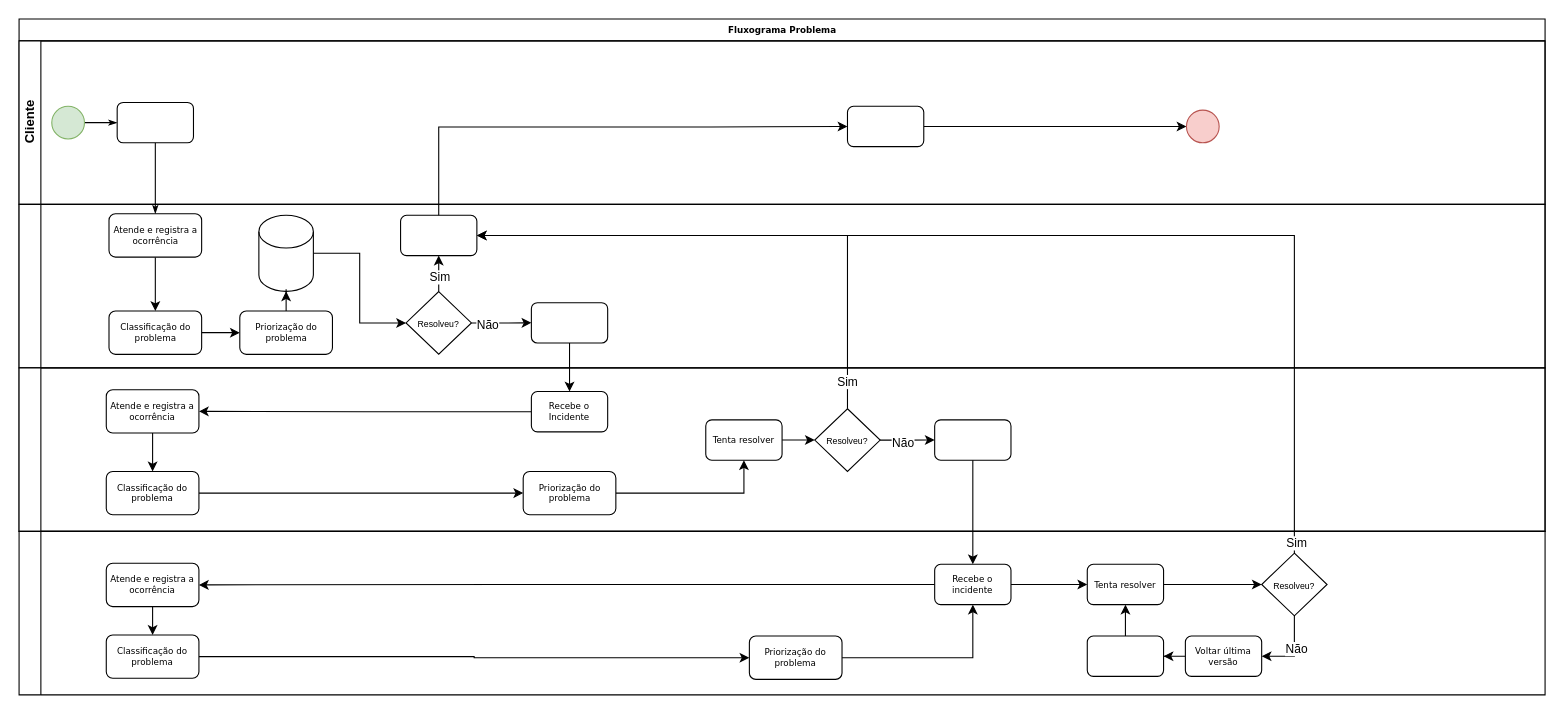
Image size: 1564x714. Some labels were removed from this diagram. The shapes that lost their labels are listed below. From the top down, each one's box as (x1, y1, x2, y2) in pixels, then its label:
(116, 101, 193, 143): Solicita serviço de problema
(846, 105, 924, 147): Contatar usuário
(258, 214, 313, 291): Consultar base de dados
(399, 214, 477, 256): Registrar ocorrência
(18, 203, 1545, 368): N1
(530, 302, 608, 343): Enviar para o N2
(18, 367, 1545, 531): N2
(934, 419, 1011, 460): Enviar para o N3
(18, 530, 1545, 695): N3
(1086, 635, 1164, 676): Investigar causa raiz
